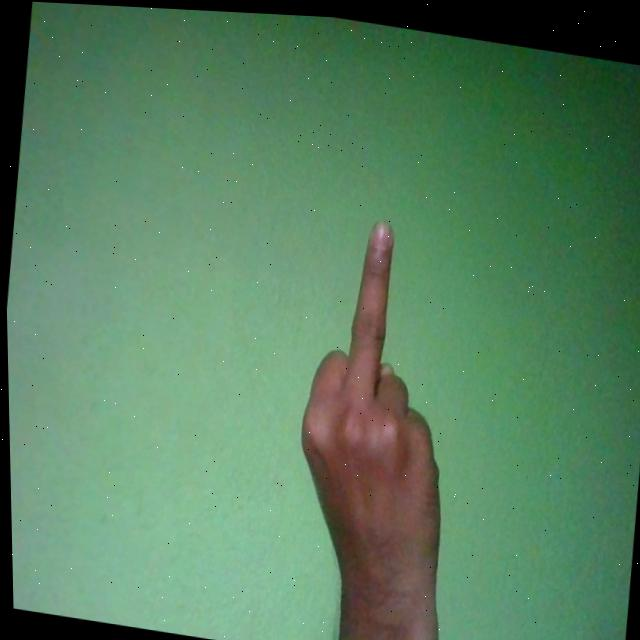Middle Finger: (272, 202, 474, 640)
